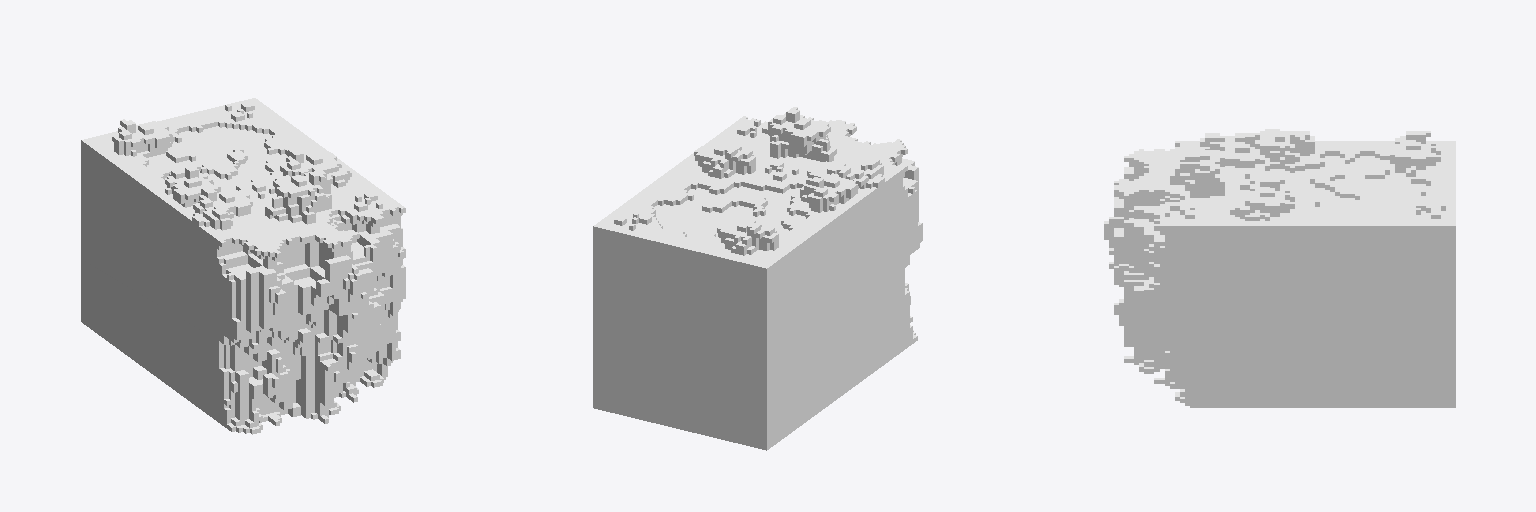
File: MountainRocks-6.obj
3 views of the same model, side by side, from view 1: azimuth 30°, elevation 25°; view 2: azimuth 150°, elevation 25°; view 3: azimuth 270°, elevation 25° (orthographic).
Parts seen in each view (by area): view 1: object 1; view 2: object 1; view 3: object 1.
Part boxes in pixels (x1,y1,x2,y2): object 1: (81, 98, 405, 434); object 1: (593, 107, 922, 450); object 1: (1104, 129, 1455, 407).
Size of the model in its own units: 4 by 4.8 by 7.